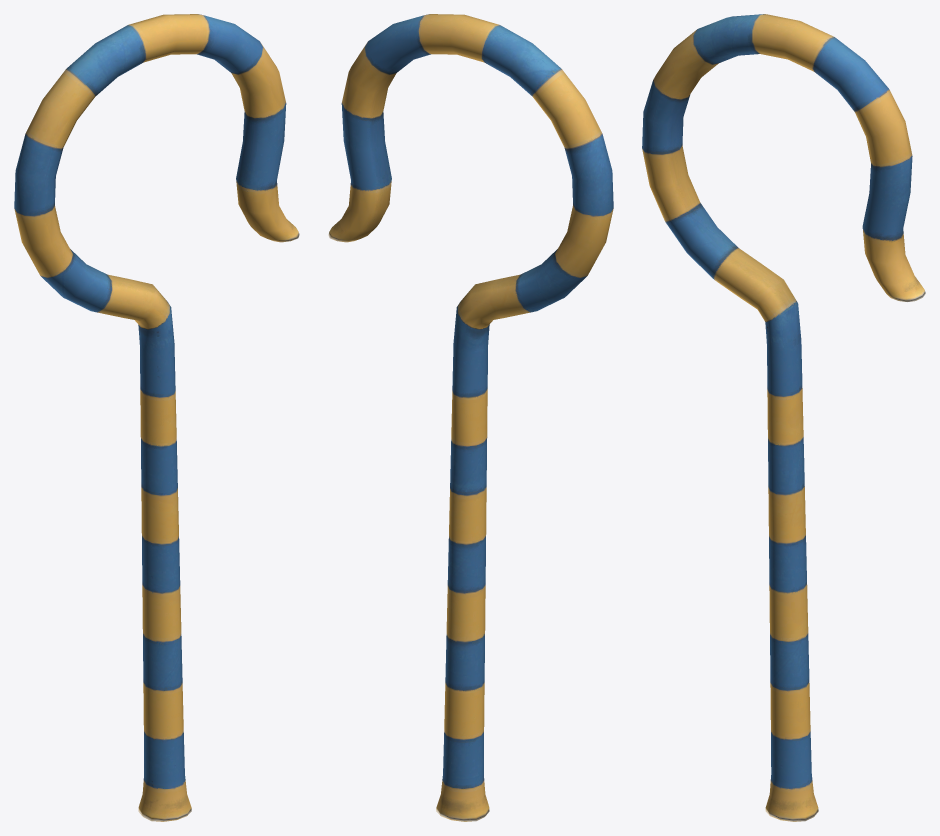
Rendered from Hook.fbx.
3 renders of one model, left to right at view 1: azimuth 30°, elevation 25°; view 2: azimuth 150°, elevation 25°; view 3: azimuth 330°, elevation 25°, orthographic.
Visible parts, largest first — view 1: Hook; view 2: Hook; view 3: Hook.
Boxes of the visible parts, x1,y1,x2,y2 form: Hook: (14,14,299,821); Hook: (328,14,613,821); Hook: (642,14,925,821).
Bounding box in the file's own units: 16.61 × 45.15 × 2.72.
Materials: 1 (1 with a texture image).
